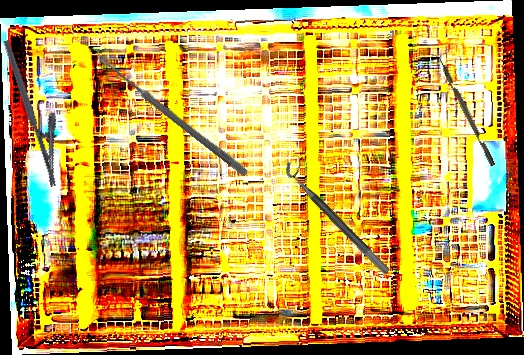Chopper: (429, 50, 496, 169)
Fixation Ring: (280, 154, 400, 276)
Needle Holder: (2, 33, 77, 188)
Surgical Spoon: (93, 52, 250, 177)
